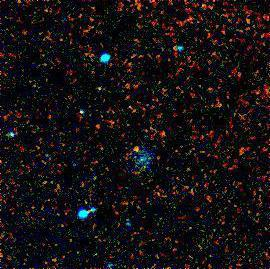star: (119, 134, 149, 164)
